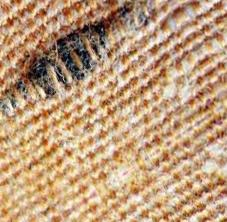slub: (1, 1, 158, 123)
